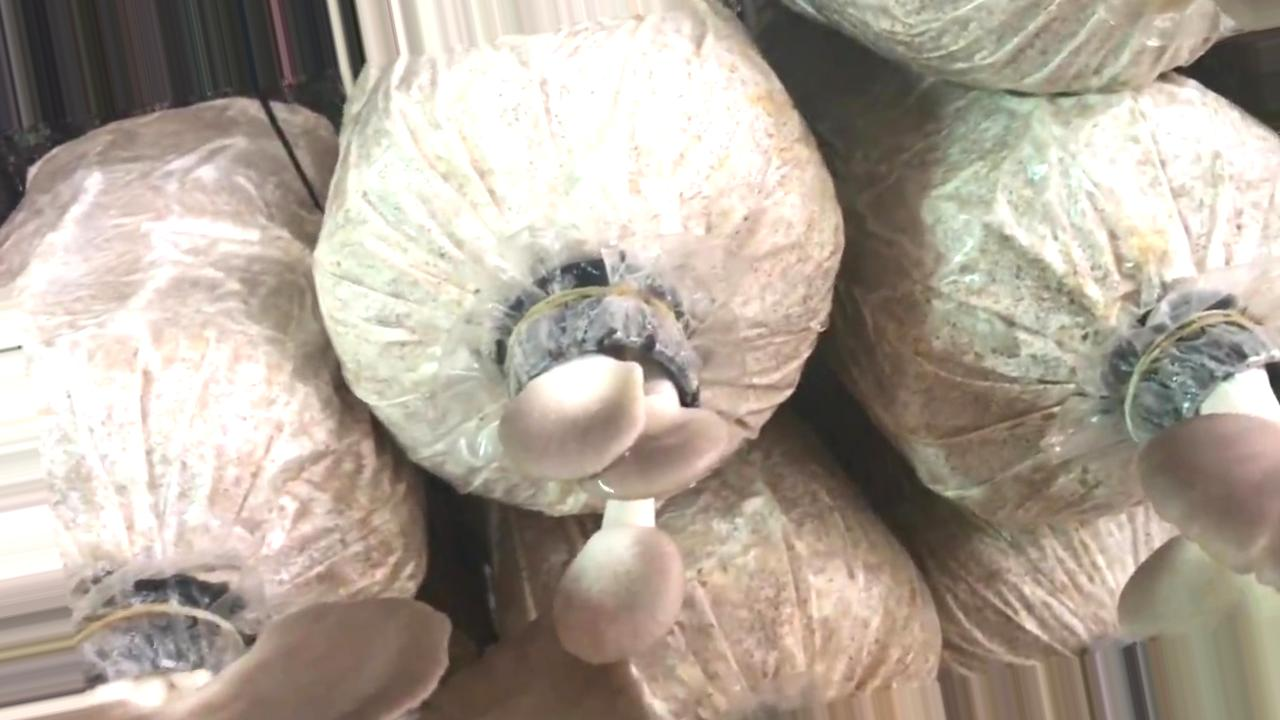nam: (498, 296, 723, 662), (75, 598, 645, 720), (1119, 314, 1278, 720)
